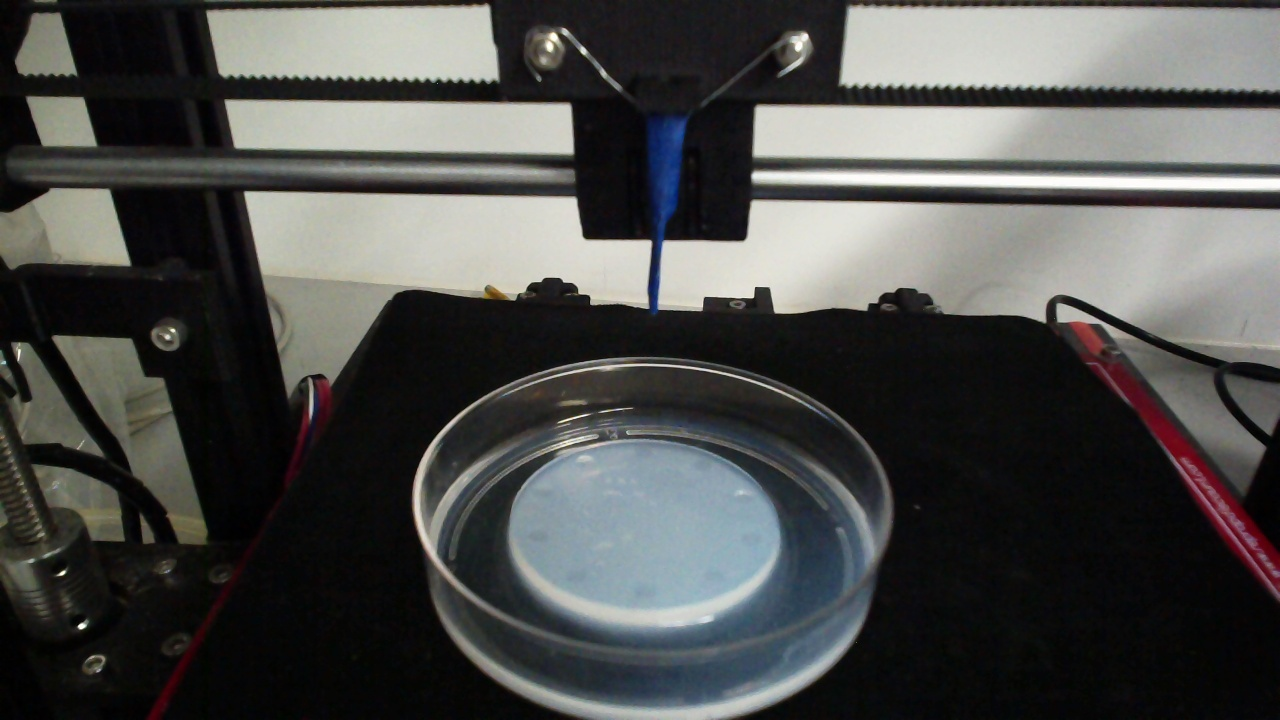groove: (524, 526, 551, 546), (632, 583, 660, 602), (562, 567, 588, 587), (701, 566, 729, 584), (529, 484, 555, 500), (631, 445, 656, 461), (574, 452, 597, 469), (739, 530, 763, 546), (733, 488, 756, 503), (691, 459, 712, 472)
needle: (647, 117, 686, 317)
